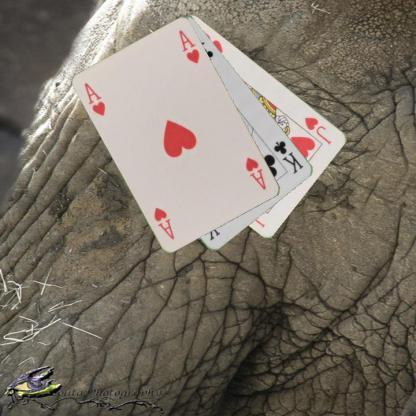Ah: (82, 80, 108, 117), (243, 154, 268, 192)
Jh: (302, 114, 333, 146)
Kc: (271, 138, 305, 176)
